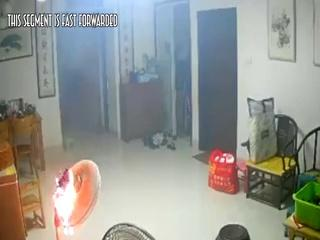Fire: (49, 134, 101, 238)
